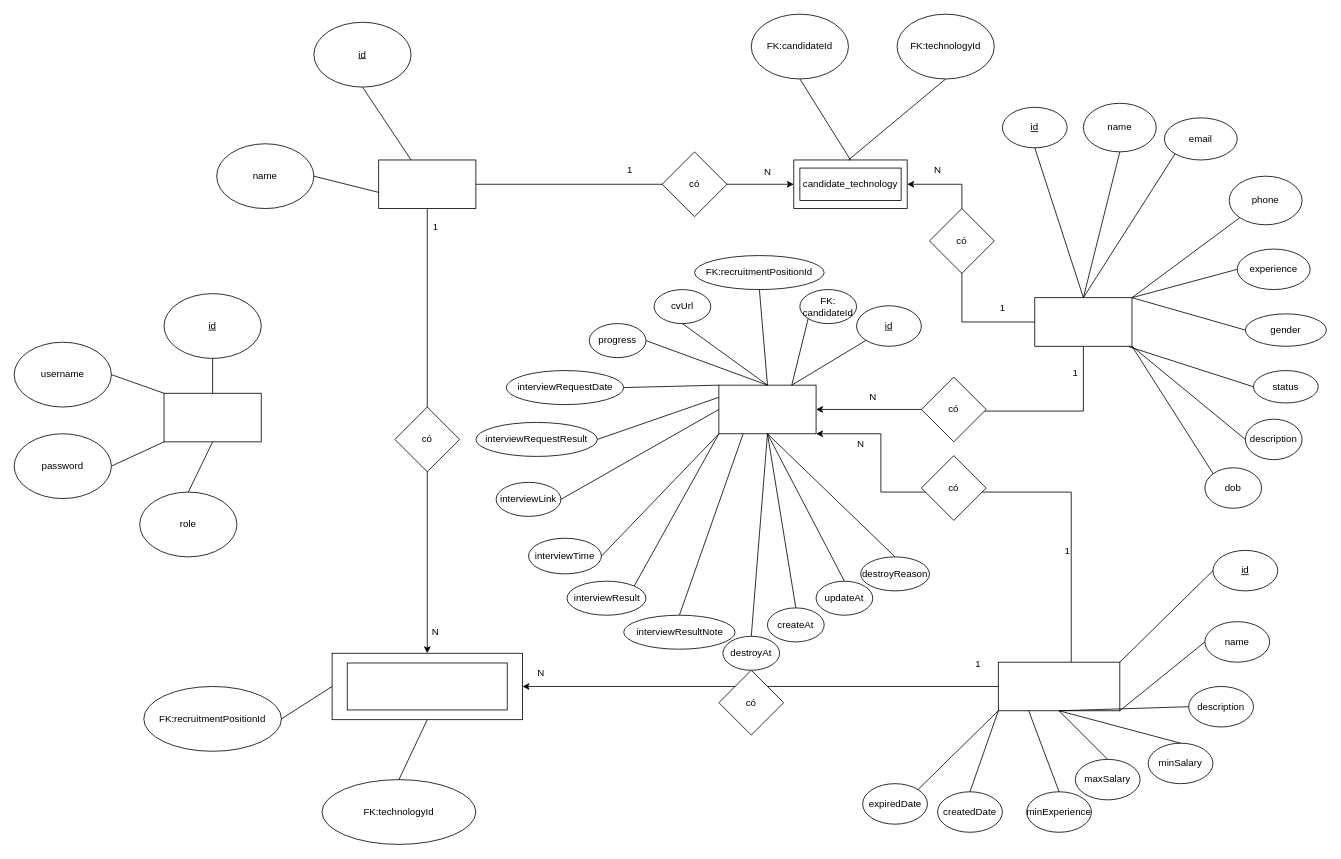
Image size: 1341x859. Some labels were removed from this diagram. Each missing label, with the centre of its shape:
"account" belongs at (212,417).
"application" belongs at (767,409).
"candidate" belongs at (1083,321).
"recruitment_position" belongs at (1059,686).
"recruitment_position_technology" belongs at (426,686).
"technology" belongs at (427,184).
